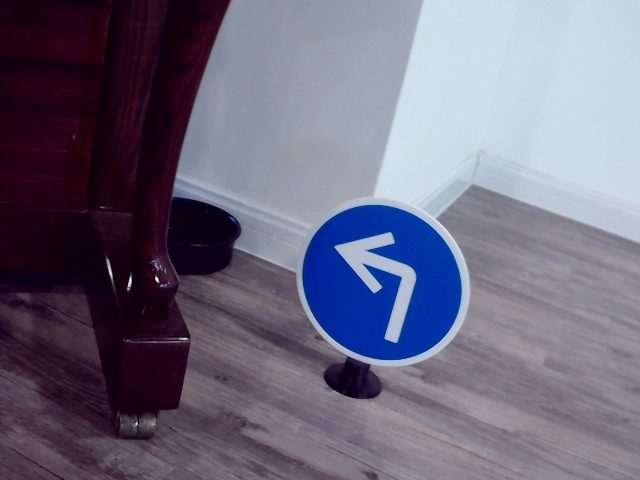turn_left: (330, 224, 419, 345)
